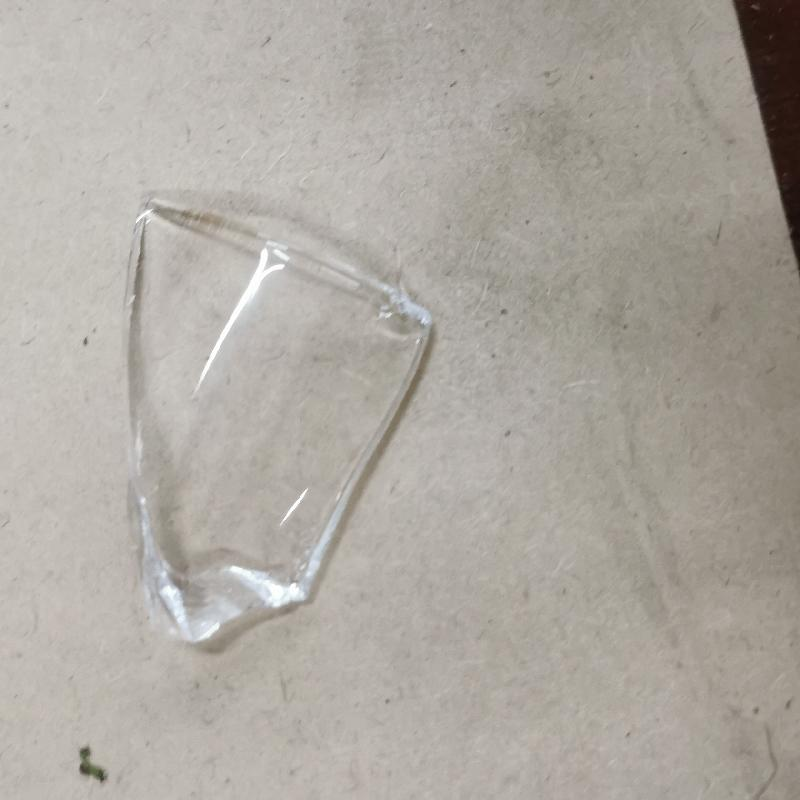glass: (124, 199, 437, 651)
